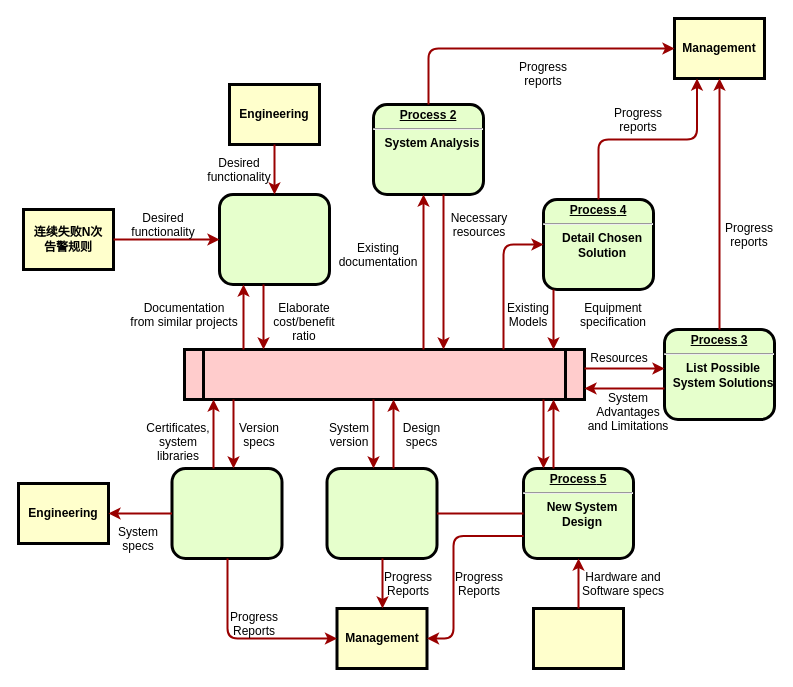
The diagram is 793 pixels wide and 687 high, and some of its shapes have lost their labels. The box of each missing label's shape, as (x1, y1, x2, y2) in pixels:
ON-DEMAND SYSTEM DEVELOPMENT: (182, 348, 586, 400)
Process 1 System Study Preparation: (218, 192, 330, 286)
Process 6 New System Construction: (170, 466, 283, 560)
Process 7 New System Startup and Testing: (325, 466, 438, 560)
Vendors: (532, 606, 624, 670)
